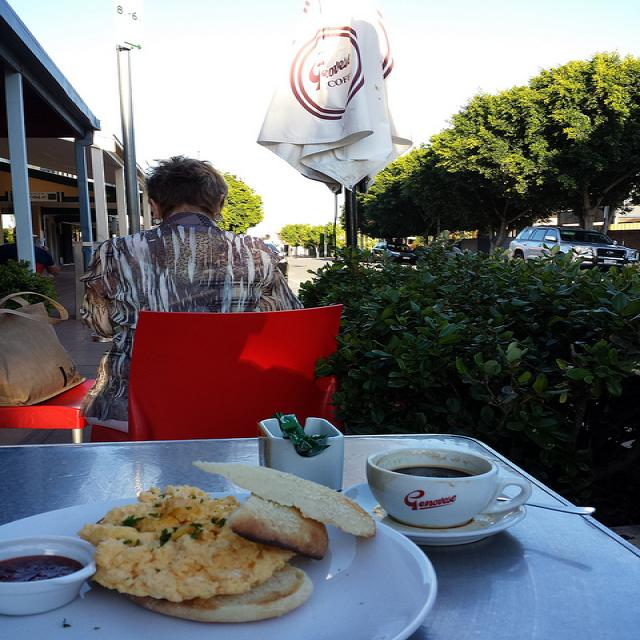Vehicle: (510, 226, 638, 266)
